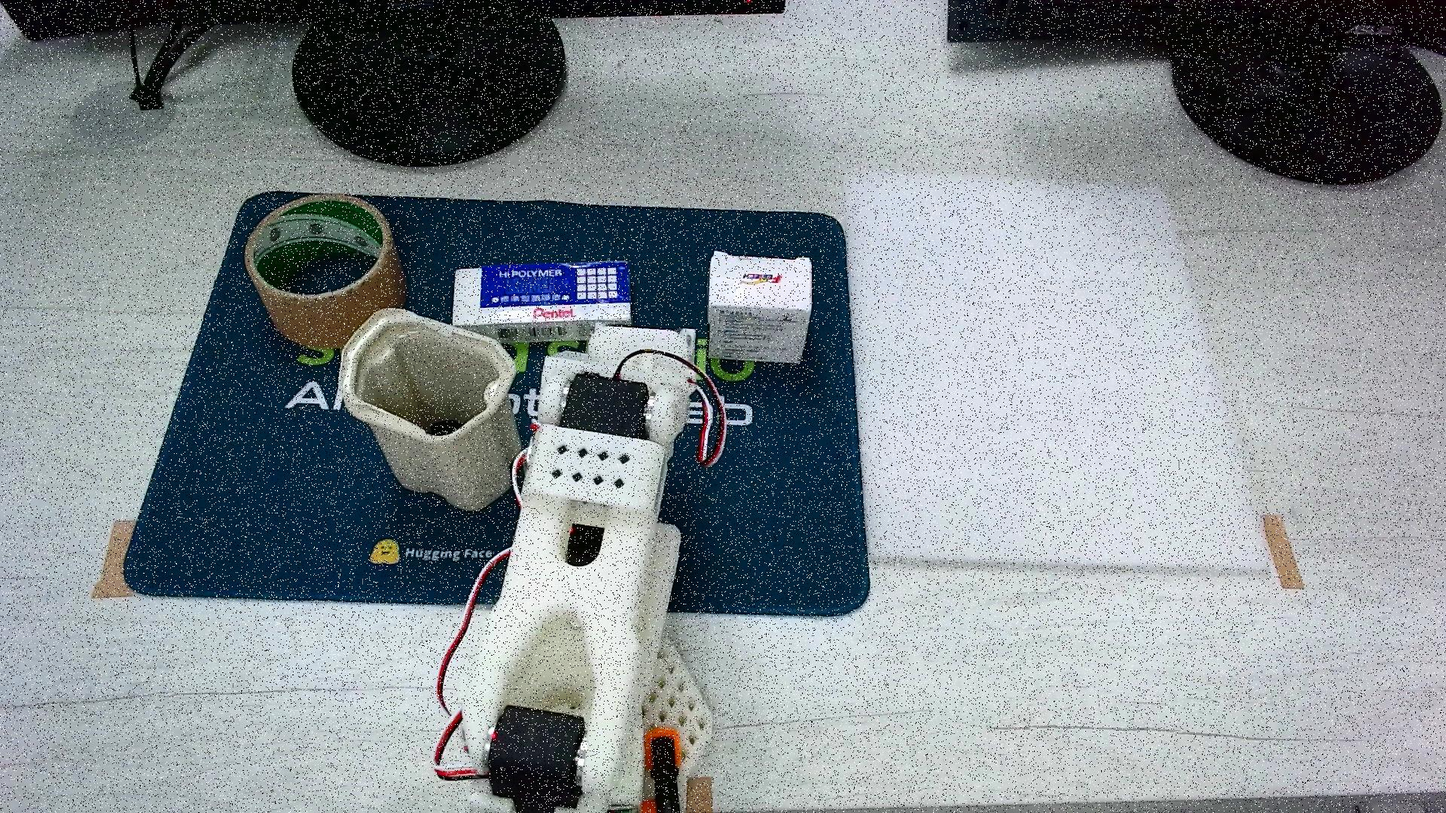eraser: (709, 251, 813, 362)
